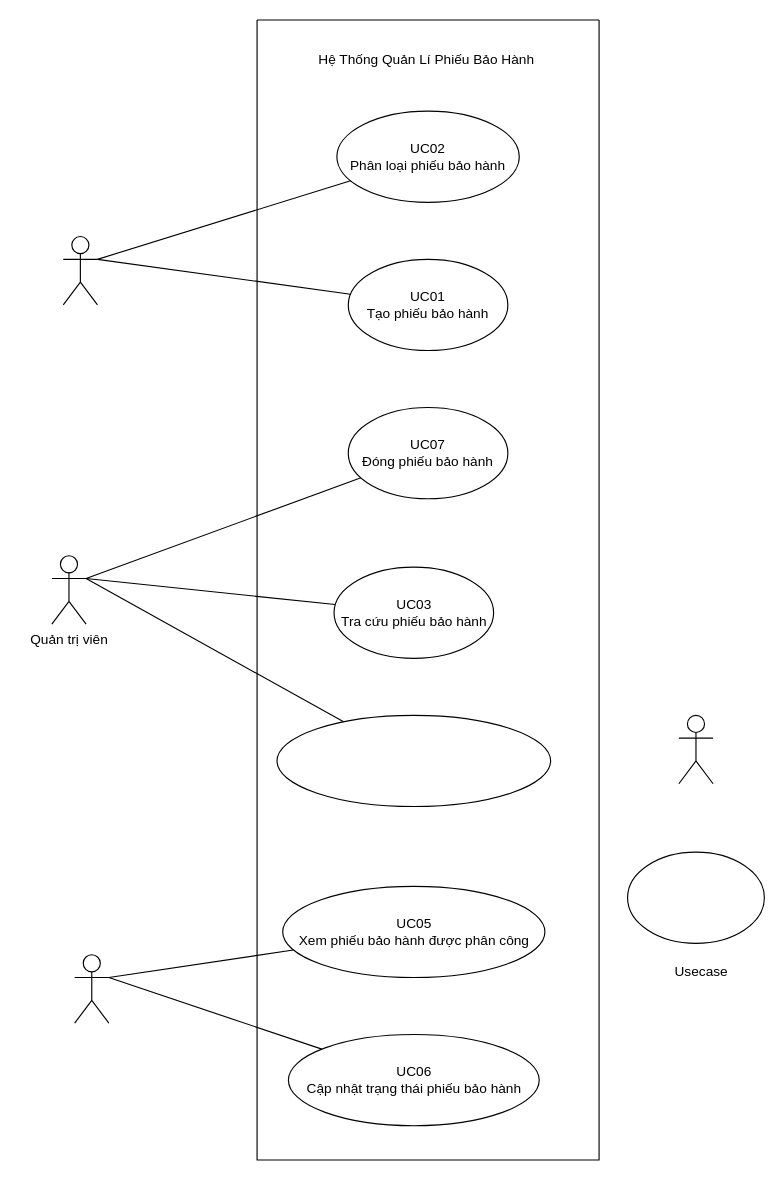
This 784x1180 diagram has some shape labels left out. The shapes that lost their labels are listed below. From the top down, each one's centre as x and y in pixels, then its label:
At (79,270): "Nhân viên tiếp nhận".
At (413,760): "UC04 Gán kỹ thuật viên cho phiếu bảo hành".
At (695,749): "Actor".
At (91,988): "Kỹ thuật viên".
